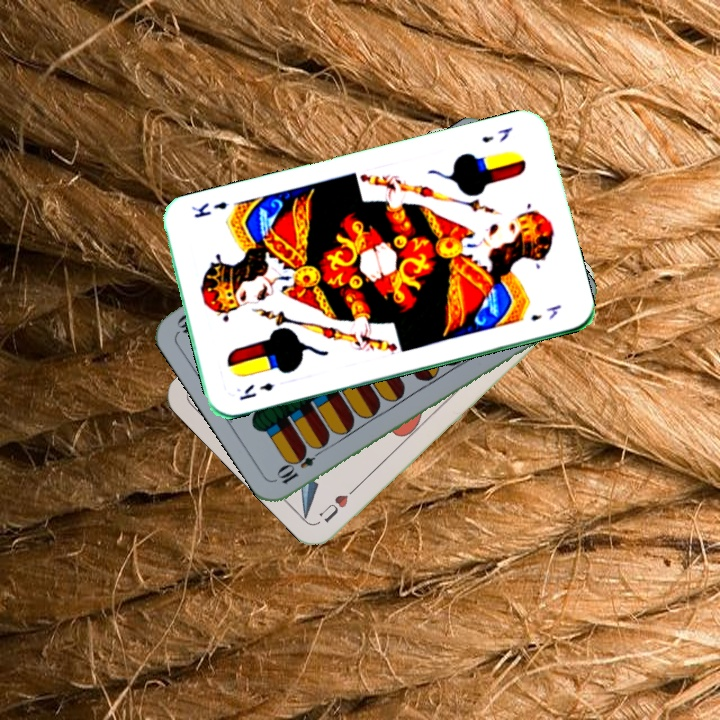E10: (273, 443, 327, 487)
EK: (235, 379, 277, 403), (478, 123, 516, 146)
HU: (315, 480, 362, 525)
